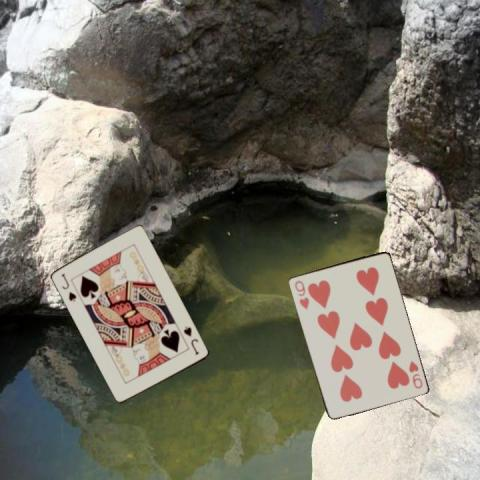9h: (291, 277, 311, 311), (405, 357, 424, 390)
Js: (181, 323, 201, 357), (58, 271, 78, 303)
